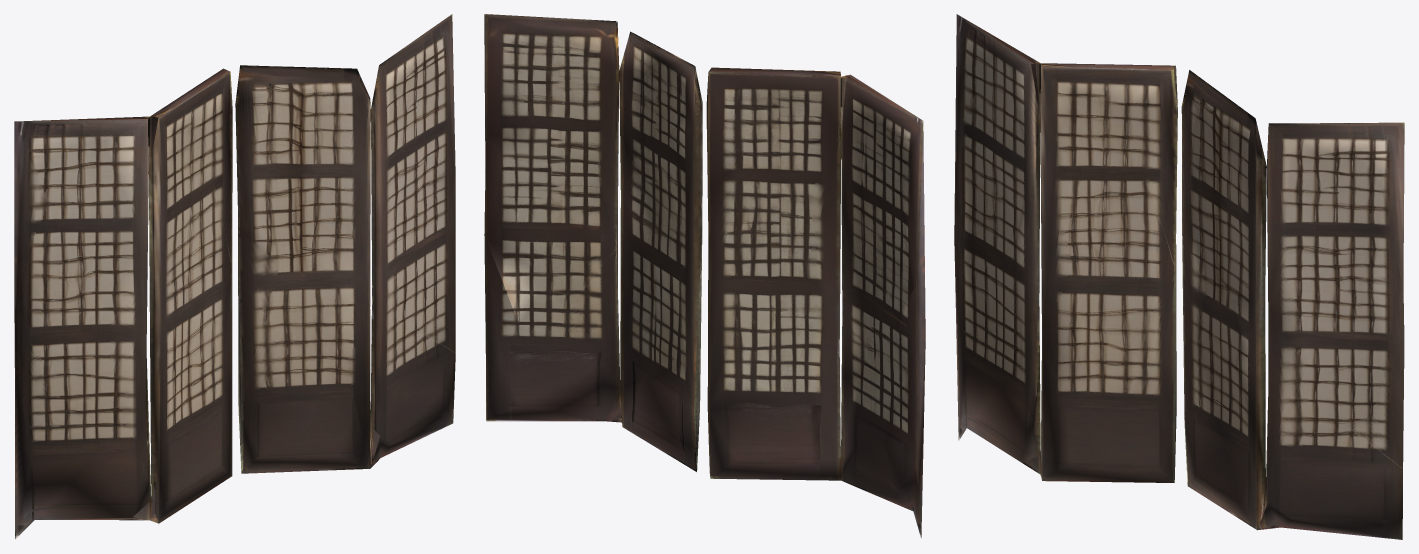
The model's file is Room Divider.glb.
The picture shows the model from 3 angles, left to right: view 1: azimuth 30°, elevation 25°; view 2: azimuth 150°, elevation 25°; view 3: azimuth 330°, elevation 25°; orthographic projection. The views are drawn at different scales.
Size of the model in its own units: 1.9 by 1.73 by 0.255.
Materials: 1 (1 with a texture image).
